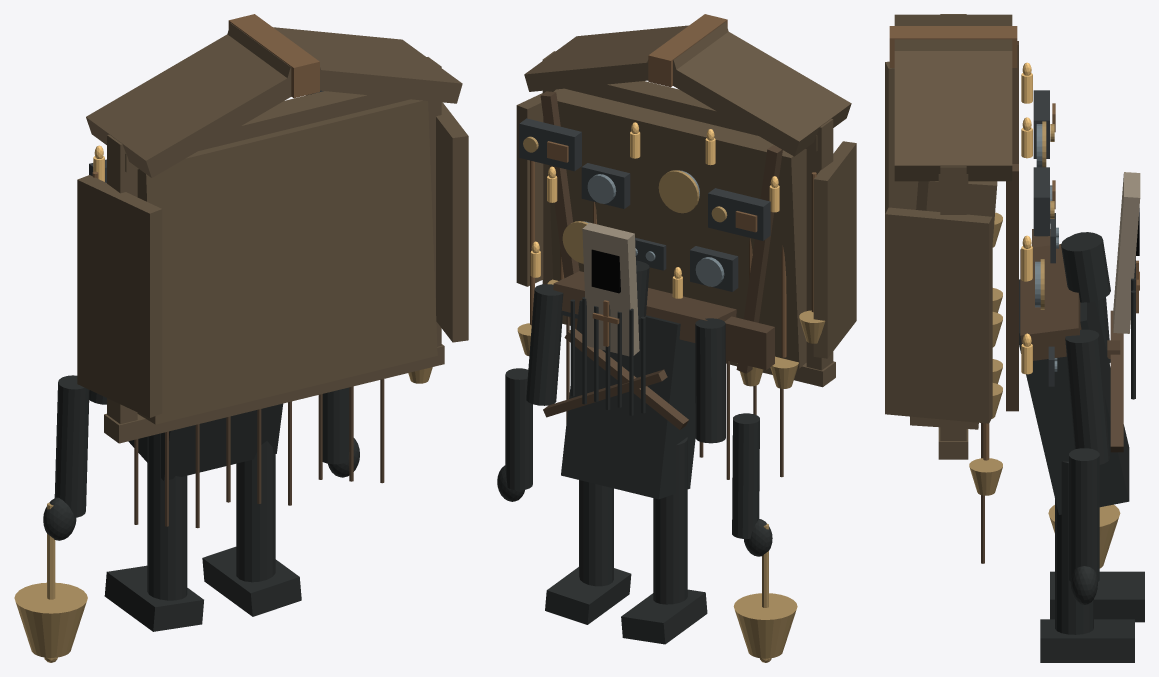
Rendered from penance_carrier_blockout_v1.glb.
3 views of the same model, side by side, from view 1: azimuth 30°, elevation 25°; view 2: azimuth 150°, elevation 25°; view 3: azimuth 270°, elevation 25° (orthographic). The views are drawn at different scales.
Visible parts, largest first — view 1: PC_BackShrine_main_frame, PC_ShrineSidePanel_Left, PC_ShrineRoof_left_slanted_plank, PC_ShrineRoof_right_slanted_plank, PC_ShrineSidePanel_Right, PC_LeftLeg_thin_wrapped, PC_HunchedTorso_wet_cloth_mass, PC_RightLeg_thin_wrapped, PC_BackShrine_bottom_beam, PC_LeftForearm_long, PC_LargeHandBell_shell, PC_BackShrine_top_beam (+7 smaller); view 2: PC_BackShrine_main_frame, PC_HunchedTorso_wet_cloth_mass, PC_ShrineRoof_left_slanted_plank, PC_ShrineSidePanel_Left, PC_ShrineRoof_right_slanted_plank, PC_HangingFaceMask_long_wood, PC_LeftLeg_thin_wrapped, PC_LeftUpperArm_long, PC_RightUpperArm_long, PC_RightLeg_thin_wrapped, PC_ShrineSidePanel_Right, PC_BackShrine_top_beam (+33 smaller); view 3: PC_ShrineSidePanel_Right, PC_ShrineRoof_right_slanted_plank, PC_HunchedTorso_wet_cloth_mass, PC_ShoulderBar_under_shrine, PC_RightUpperArm_long, PC_RightForearm_long, PC_RightFoot_wrapped_blockout, PC_ShrineStrap_right, PC_RightLeg_thin_wrapped, PC_HangingFaceMask_long_wood, PC_ShrineRoof_left_slanted_plank, PC_Neck_hidden_wrapped (+15 smaller).
Boxes of the visible parts, bbox=[...] form: PC_BackShrine_main_frame: bbox=[137, 99, 437, 424]; PC_ShrineSidePanel_Left: bbox=[77, 175, 162, 417]; PC_ShrineRoof_left_slanted_plank: bbox=[86, 34, 323, 177]; PC_ShrineRoof_right_slanted_plank: bbox=[227, 23, 462, 103]; PC_ShrineSidePanel_Right: bbox=[436, 102, 468, 342]; PC_LeftLeg_thin_wrapped: bbox=[147, 433, 187, 600]; PC_HunchedTorso_wet_cloth_mass: bbox=[128, 403, 283, 481]; PC_RightLeg_thin_wrapped: bbox=[236, 441, 275, 582]; PC_BackShrine_bottom_beam: bbox=[104, 344, 444, 443]; PC_LeftForearm_long: bbox=[54, 375, 89, 517]; PC_LargeHandBell_shell: bbox=[14, 582, 87, 657]; PC_BackShrine_top_beam: bbox=[125, 91, 409, 172]; PC_BackShrine_main_frame: bbox=[548, 88, 806, 368]; PC_HunchedTorso_wet_cloth_mass: bbox=[561, 300, 695, 499]; PC_ShrineRoof_left_slanted_plank: bbox=[645, 31, 851, 156]; PC_ShrineSidePanel_Left: bbox=[813, 141, 856, 358]; PC_ShrineRoof_right_slanted_plank: bbox=[524, 22, 728, 91]; PC_HangingFaceMask_long_wood: bbox=[582, 222, 639, 356]; PC_LeftLeg_thin_wrapped: bbox=[653, 437, 687, 604]; PC_LeftUpperArm_long: bbox=[695, 318, 725, 443]; PC_RightUpperArm_long: bbox=[526, 284, 563, 405]; PC_RightLeg_thin_wrapped: bbox=[579, 480, 613, 586]; PC_ShrineSidePanel_Right: bbox=[516, 93, 543, 286]; PC_BackShrine_top_beam: bbox=[565, 81, 817, 151]; PC_ShrineSidePanel_Right: bbox=[885, 207, 992, 423]; PC_ShrineRoof_right_slanted_plank: bbox=[894, 51, 1012, 181]; PC_HunchedTorso_wet_cloth_mass: bbox=[1019, 279, 1129, 514]; PC_ShoulderBar_under_shrine: bbox=[1020, 244, 1081, 360]; PC_RightUpperArm_long: bbox=[1065, 329, 1109, 464]; PC_RightForearm_long: bbox=[1069, 448, 1099, 581]; PC_RightFoot_wrapped_blockout: bbox=[1040, 619, 1134, 662]; PC_ShrineStrap_right: bbox=[1006, 164, 1018, 411]; PC_RightLeg_thin_wrapped: bbox=[1055, 461, 1093, 634]; PC_HangingFaceMask_long_wood: bbox=[1113, 172, 1140, 333]; PC_ShrineRoof_left_slanted_plank: bbox=[894, 14, 1012, 50]; PC_Neck_hidden_wrapped: bbox=[1061, 233, 1110, 302].
Size of the model in its own units: 2.54 by 4.18 by 1.59.
